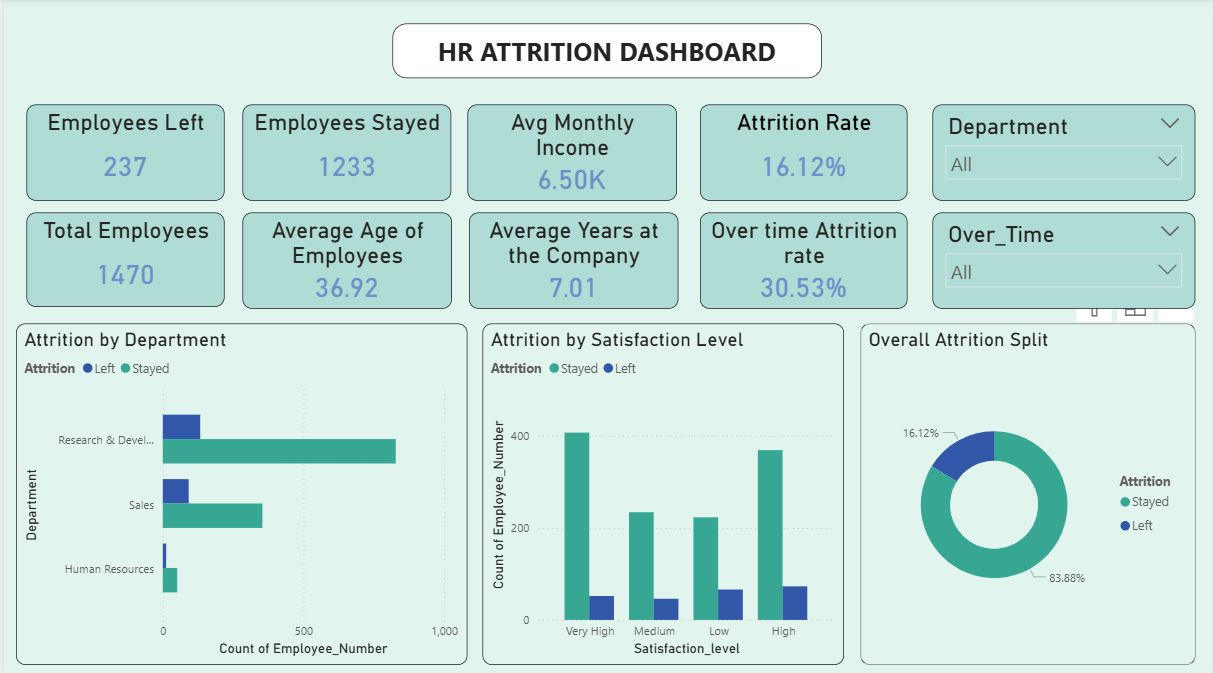

The page's visual inventory and layout, read from the dashboard file:
{"tool":"powerbi","page":{"name":"Page 1","canvas":[1280,720],"ordinal":0},"visuals":[{"type":"card","title":"Avg Monthly Income","fields":{"Values":["Avg(WA_Fn-UseC_-HR-Employee-Attriti.Monthly_Income)"]},"box":[491.7,113.3,221.7,101.7],"z":0},{"type":"card","title":"Employees Stayed","fields":{"Values":["Count(WA_Fn-UseC_-HR-Employee-Attriti.Employee_Number)"]},"box":[252.9,112.9,221.1,101.8],"z":1000},{"type":"donutChart","title":"Overall Attrition Split","fields":{"Category":["WA_Fn-UseC_-HR-Employee-Attriti.Attrition"],"Y":["CountNonNull(WA_Fn-UseC_-HR-Employee-Attriti.Employee_Number)"]},"box":[908.3,345,355,361.7],"z":2000},{"type":"clusteredBarChart","title":"Attrition by Department","fields":{"Category":["WA_Fn-UseC_-HR-Employee-Attriti.Department"],"Y":["CountNonNull(WA_Fn-UseC_-HR-Employee-Attriti.Employee_Number)"],"Series":["WA_Fn-UseC_-HR-Employee-Attriti.Attrition"]},"box":[13.3,345,478.3,361.7],"z":3000},{"type":"clusteredColumnChart","title":"Attrition by Satisfaction Level","fields":{"Category":["WA_Fn-UseC_-HR-Employee-Attriti.Satisfaction_level"],"Y":["CountNonNull(WA_Fn-UseC_-HR-Employee-Attriti.Employee_Number)"],"Series":["WA_Fn-UseC_-HR-Employee-Attriti.Attrition"]},"box":[506.7,345,383.3,361.7],"z":4000},{"type":"slicer","fields":{"Values":["WA_Fn-UseC_-HR-Employee-Attriti.Department"]},"box":[985,113.3,278.3,101.7],"z":5000},{"type":"slicer","fields":{"Values":["WA_Fn-UseC_-HR-Employee-Attriti.Over_Time"]},"box":[985,226.7,278.3,101.7],"z":6000},{"type":"textbox","box":[411.3,27.5,455,58.3],"z":7000},{"type":"card","title":"Employees Left","fields":{"Values":["CountNonNull(WA_Fn-UseC_-HR-Employee-Attriti.Employee_Number)"]},"box":[23.9,112.9,210,101.8],"z":8000},{"type":"card","title":"Attrition Rate","fields":{"Values":["WA_Fn-UseC_-HR-Employee-Attriti.Attrition Rate"]},"box":[738.3,113.3,220,101.7],"z":9000},{"type":"card","title":"Total Employees","fields":{"Values":["Count(WA_Fn-UseC_-HR-Employee-Attriti.Employee_Number)"]},"box":[23.3,226.7,210,100],"z":10000},{"type":"card","title":"Average Age of Employees","fields":{"Values":["Avg(WA_Fn-UseC_-HR-Employee-Attriti.Age)"]},"box":[253.3,226.7,221.7,101.7],"z":11000},{"type":"card","title":"Average Years at the Company","fields":{"Values":["Avg(WA_Fn-UseC_-HR-Employee-Attriti.YearsAtCompany)"]},"box":[493.3,226.7,221.7,101.7],"z":12000},{"type":"card","title":"Over time Attrition rate","fields":{"Values":["WA_Fn-UseC_-HR-Employee-Attriti.Overtime Attrition Rate"]},"box":[738.3,226.7,220,101.7],"z":13000}]}

Visuals, with their boxes in screenshot pixels (x1, y1, x2, y2), scaled from the page's 1280x720 canvas onto the 1213x673 screenshot:
"Avg Monthly Income" card: rect(466, 106, 676, 201)
"Employees Stayed" card: rect(240, 106, 449, 201)
"Overall Attrition Split" donutChart: rect(861, 322, 1197, 661)
"Attrition by Department" clusteredBarChart: rect(13, 322, 466, 661)
"Attrition by Satisfaction Level" clusteredColumnChart: rect(480, 322, 843, 661)
slicer - WA_Fn-UseC_-HR-Employee-Attriti.Department: rect(933, 106, 1197, 201)
slicer - WA_Fn-UseC_-HR-Employee-Attriti.Over_Time: rect(933, 212, 1197, 307)
textbox: rect(390, 26, 821, 80)
"Employees Left" card: rect(23, 106, 222, 201)
"Attrition Rate" card: rect(700, 106, 908, 201)
"Total Employees" card: rect(22, 212, 221, 305)
"Average Age of Employees" card: rect(240, 212, 450, 307)
"Average Years at the Company" card: rect(467, 212, 678, 307)
"Over time Attrition rate" card: rect(700, 212, 908, 307)
